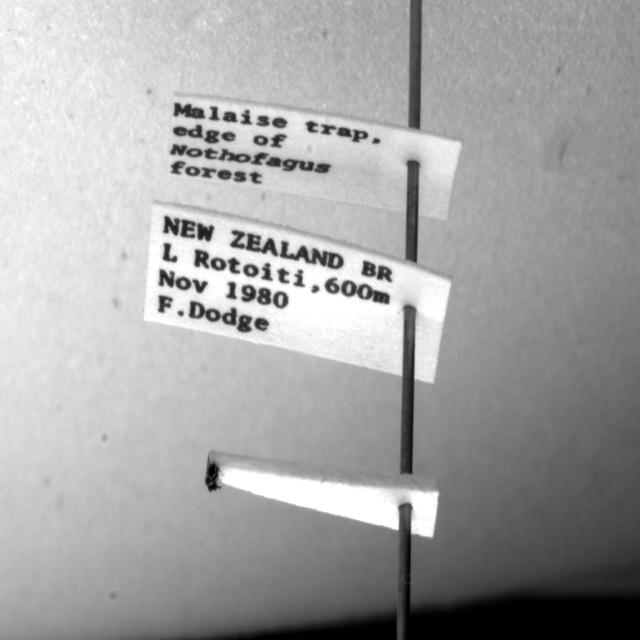typed_label: (144, 202, 451, 382), (169, 94, 462, 219)
